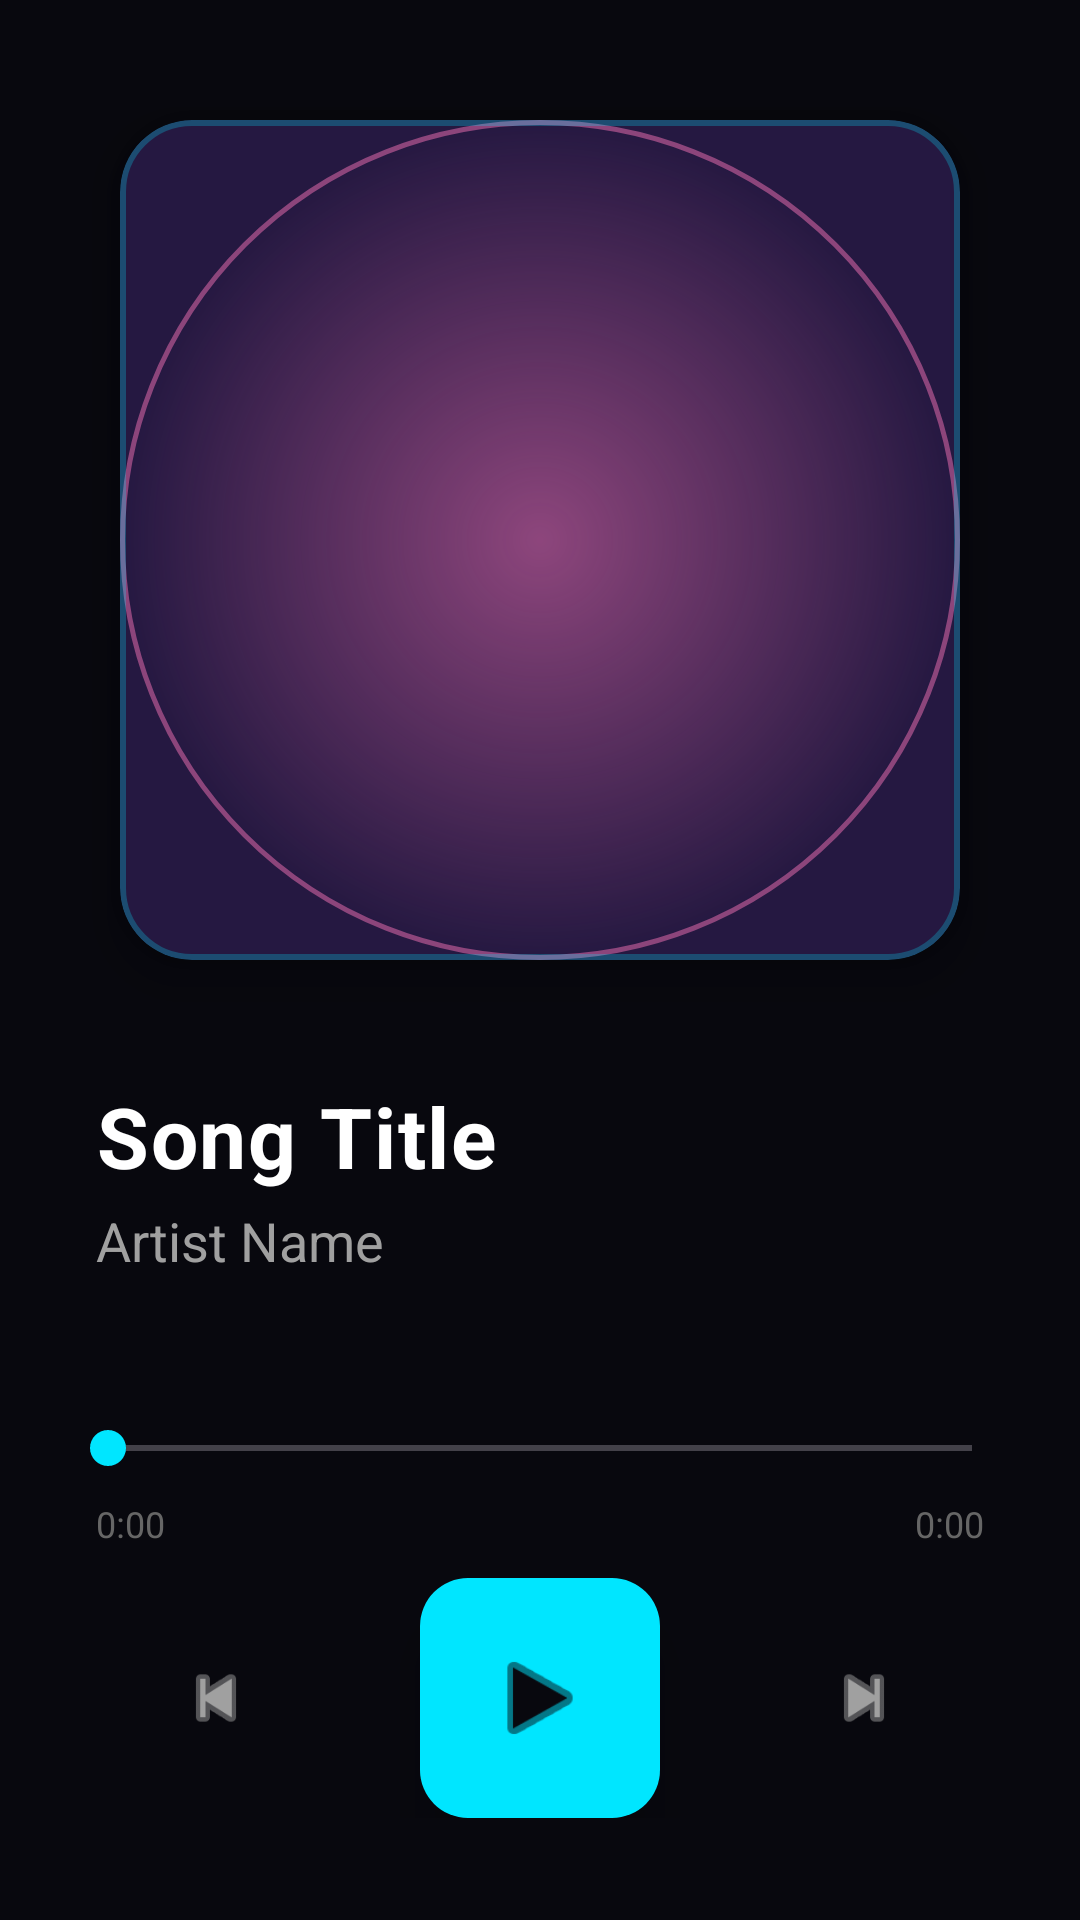

Screen size 1080x1920. Icon name, then its box in pixels as (x1, y1, x2, y2):
next: (844, 1674, 884, 1722)
play: (420, 1578, 660, 1818)
previous: (196, 1674, 236, 1722)
